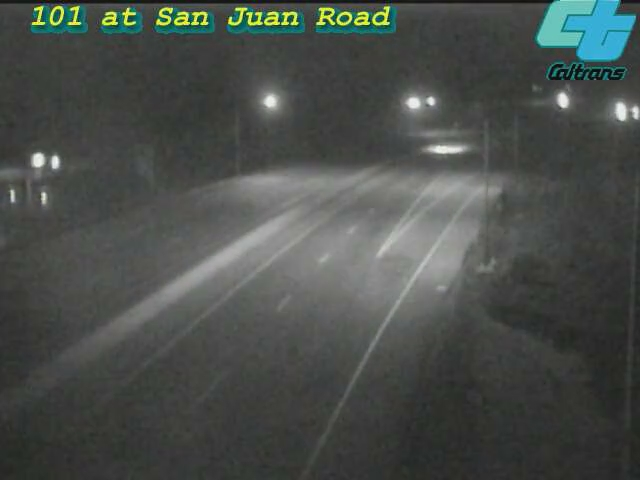vehicle: (421, 124, 471, 174), (595, 86, 640, 136), (611, 88, 640, 138)
